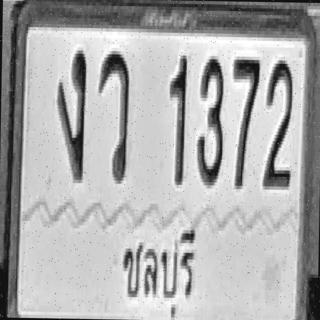A07: (56, 47, 86, 180)
A37: (96, 51, 130, 180)
N01: (168, 54, 187, 183)
N02: (262, 58, 293, 188)
N03: (196, 56, 224, 185)
N07: (231, 54, 260, 188)
P13: (113, 215, 198, 320)
